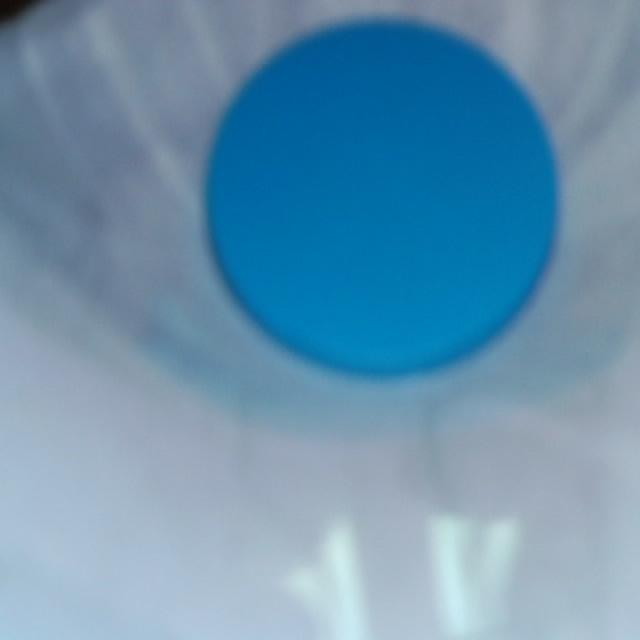circle: (208, 25, 555, 373)
